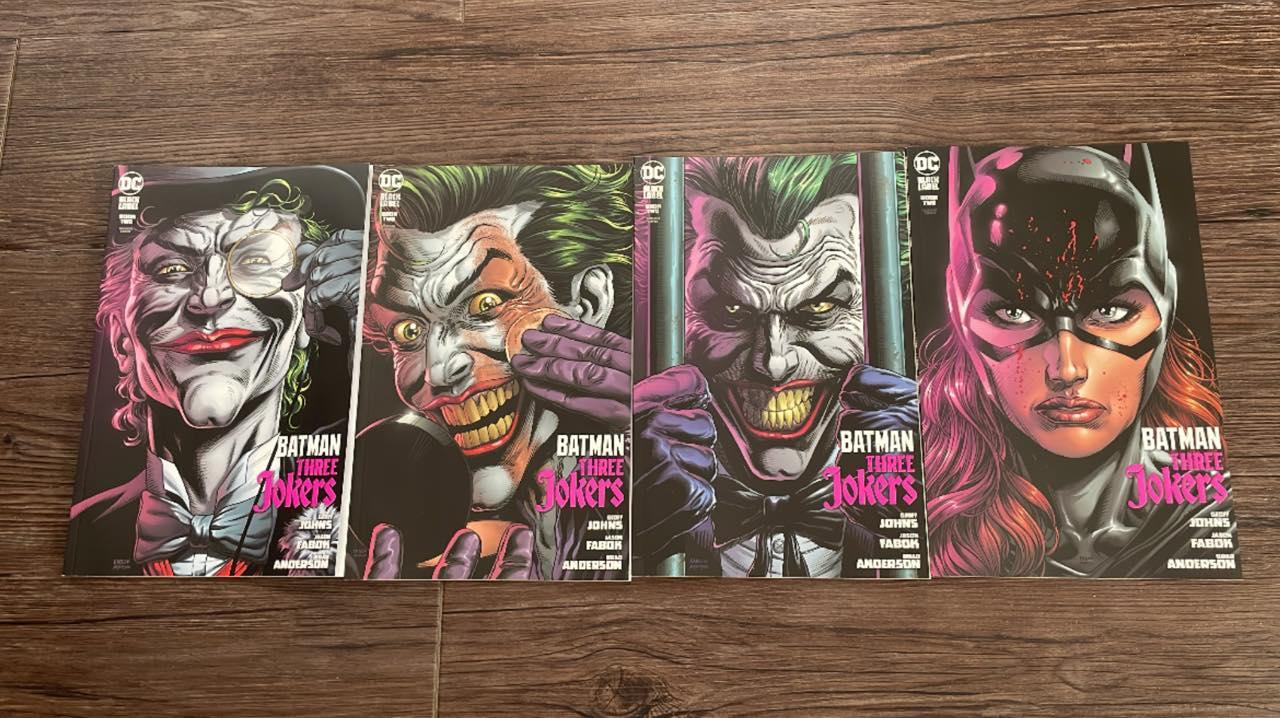comic: (905, 131, 1239, 594), (64, 136, 387, 604), (624, 151, 927, 582), (347, 163, 631, 579)
